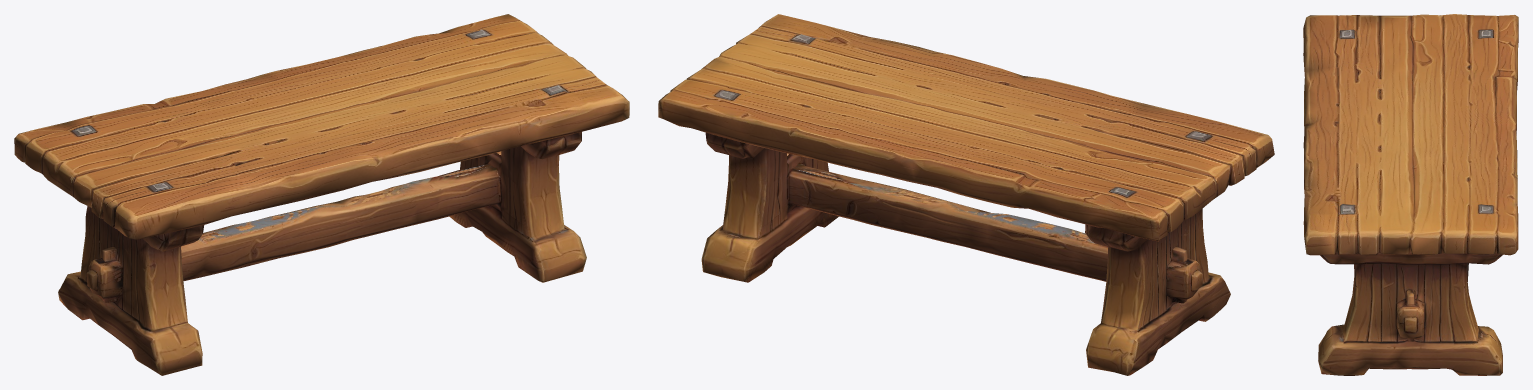
File: SM_Env_TableLong.fbx
3 renders of one model, left to right at view 1: azimuth 30°, elevation 25°; view 2: azimuth 150°, elevation 25°; view 3: azimuth 270°, elevation 25°, orthographic. The views are drawn at different scales.
Visible parts, largest first — view 1: SM_Env_TableLong; view 2: SM_Env_TableLong; view 3: SM_Env_TableLong.
Boxes of the visible parts, left/top/right/bottom form: SM_Env_TableLong: left=14, top=14, right=629, bottom=375; SM_Env_TableLong: left=658, top=14, right=1274, bottom=375; SM_Env_TableLong: left=1303, top=14, right=1518, bottom=375.
Size of the model in its own units: 2.2 by 0.75 by 0.9.
